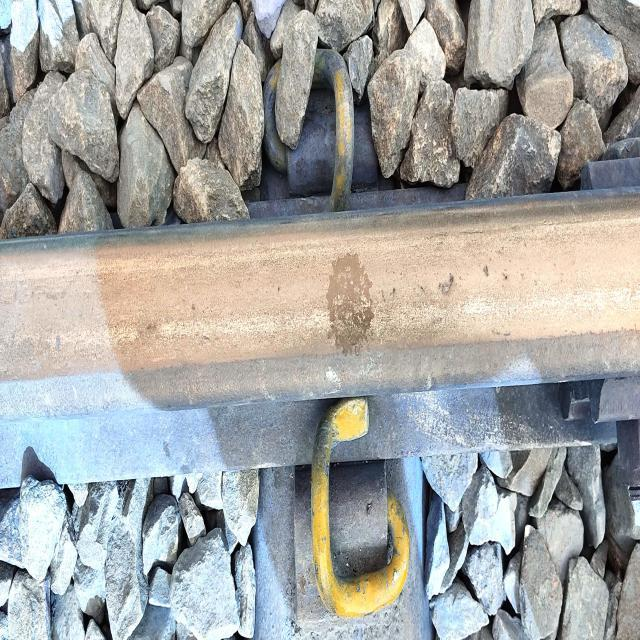Good Fasteners: (295, 398, 410, 626), (263, 50, 378, 211)
